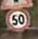limite 50: (5, 6, 31, 32)
